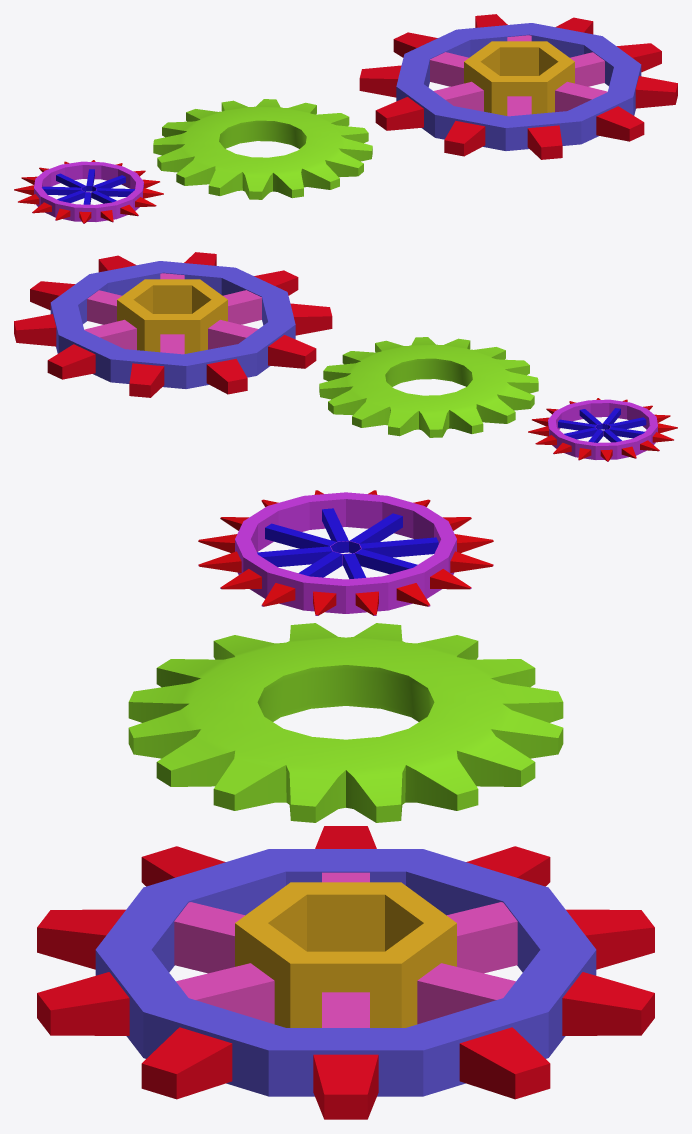
Rendered from GearKitUVID.fbx.
3 views of the same model, one above another, from view 1: azimuth 30°, elevation 25°; view 2: azimuth 150°, elevation 25°; view 3: azimuth 270°, elevation 25° (orthographic). The views are drawn at different scales.
Visible parts, largest first — view 1: Gear1, Gear2, Gear 3; view 2: Gear1, Gear2, Gear 3; view 3: Gear1, Gear2, Gear 3.
Boxes of the visible parts, left/top/right/bottom form: Gear1: left=359, top=14, right=677, bottom=159; Gear2: left=153, top=99, right=372, bottom=199; Gear 3: left=14, top=160, right=163, bottom=223; Gear1: left=14, top=252, right=332, bottom=397; Gear2: left=319, top=337, right=538, bottom=437; Gear 3: left=528, top=398, right=677, bottom=461; Gear1: left=37, top=826, right=654, bottom=1119; Gear2: left=128, top=623, right=563, bottom=822; Gear 3: left=198, top=490, right=493, bottom=615.
Size of the model in its own units: 453 by 34.5 by 192.
